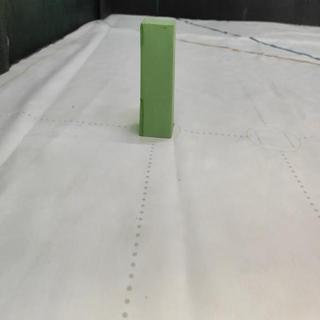greenbox: (139, 15, 177, 138)
